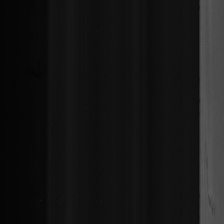silk_spot: (201, 140, 220, 224)
